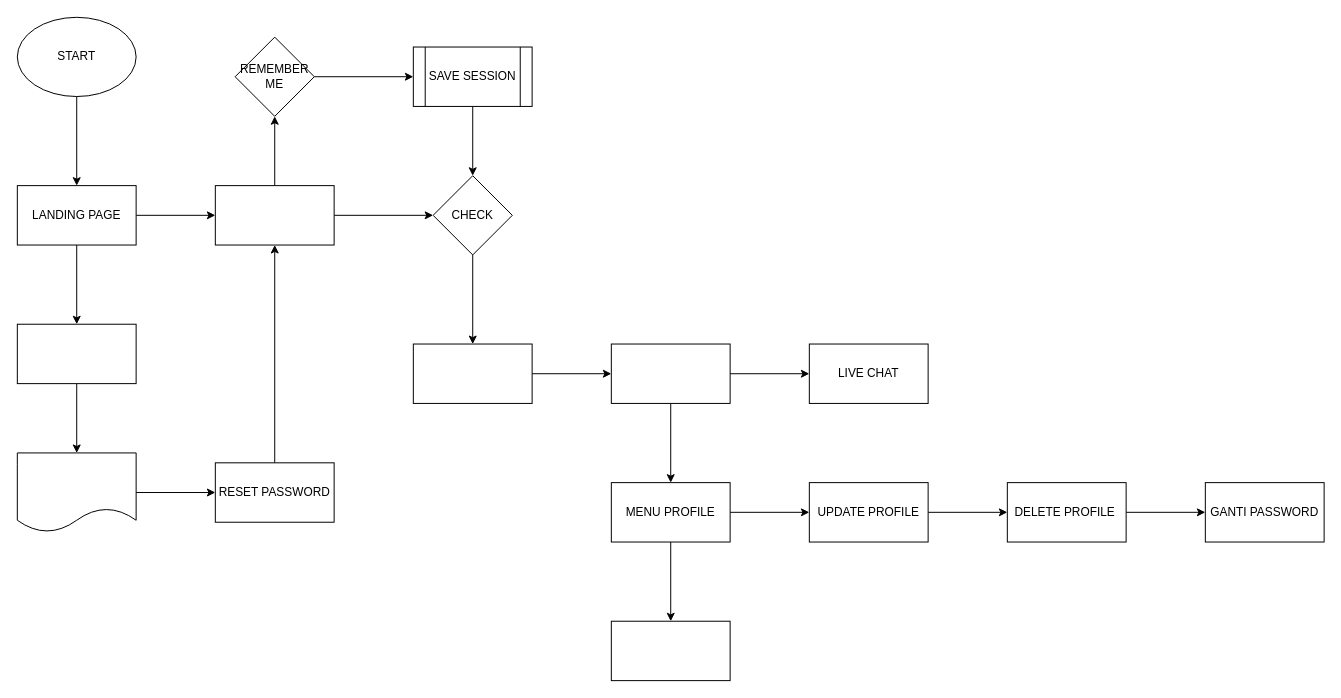
Some shapes in this 1341 by 698 pixel diagram are drawn without their labels. Each missing label, with the centre of its shape:
"DASHBOARD" belongs at [472,373].
"FORGOT PASSWORD" belongs at [76,353].
"LOGIN" belongs at [274,215].
"MAIL KONFIMASI" belongs at [76,492].
"MENU LOGOUT" belongs at [670,650].
"MENU MODUL" belongs at [670,373].
